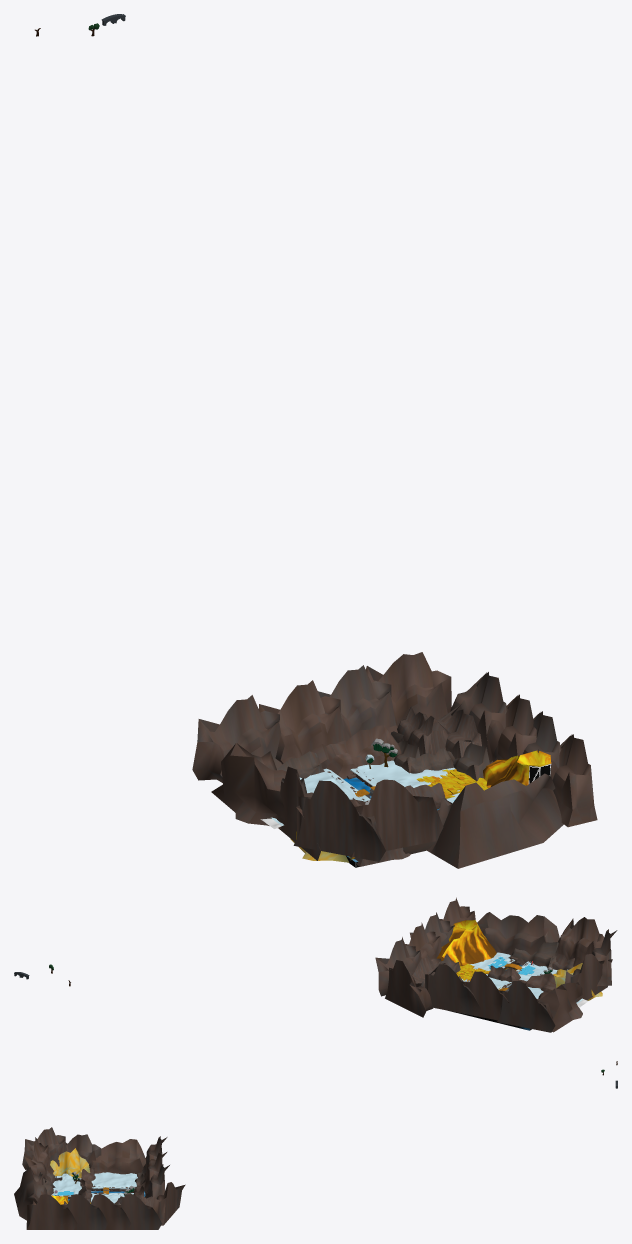
Rendered from Level1(3).FBX.
3 renders of one model, top to bottom at view 1: azimuth 30°, elevation 25°; view 2: azimuth 150°, elevation 25°; view 3: azimuth 270°, elevation 25°, orthographic. The views are drawn at different scales.
Parts seen in each view (by area): view 1: MountainR007, MountainTR012, MountainTR009, MountainTR008, MountainR005, MountainTR010, MountainTR011, MountainTR007, MountainTR004, MountainTR005, MountainTL001, MountainTR006 (+5 smaller); view 2: MountainR007, MountainTR009, MountainTR007, Volcano001, MountainTR010, MountainTR011, MountainR005, MountainTR008, MountainTR006, MountainTR013, MountainTR005, MountainL005 (+9 smaller); view 3: MountainR005, MountainTR004, MountainTR003, MountainTR006, MountainR007, MountainTR012, MountainTR005, MountainTR011, Sphere002, MountainTR010, MountainTR013, Plane001 (+4 smaller).
Part boxes in pixels (left/top/right/bottom): MountainR007: left=427, top=773, right=563, bottom=868; MountainTR012: left=293, top=780, right=385, bottom=861; MountainTR009: left=192, top=695, right=282, bottom=782; MountainTR008: left=259, top=680, right=346, bottom=764; MountainR005: left=211, top=743, right=286, bottom=828; MountainTR010: left=350, top=779, right=443, bottom=857; MountainTR011: left=365, top=652, right=451, bottom=726; MountainTR007: left=318, top=665, right=397, bottom=741; MountainTR004: left=550, top=734, right=597, bottom=827; MountainTR005: left=486, top=694, right=536, bottom=763; MountainTL001: left=321, top=725, right=401, bottom=779; MountainTR006: left=450, top=672, right=506, bottom=749; MountainR007: left=477, top=912, right=559, bottom=960; MountainTR009: left=497, top=981, right=555, bottom=1032; MountainTR007: left=425, top=964, right=480, bottom=1016; Volcano001: left=436, top=920, right=496, bottom=966; MountainTR010: left=555, top=917, right=604, bottom=966; MountainTR011: left=385, top=960, right=433, bottom=1017; MountainR005: left=537, top=982, right=582, bottom=1032; MountainTR008: left=461, top=971, right=509, bottom=1020; MountainTR006: left=375, top=937, right=421, bottom=996; MountainTR013: left=565, top=953, right=612, bottom=1002; MountainTR005: left=405, top=922, right=441, bottom=959; MountainL005: left=508, top=942, right=558, bottom=969; MountainR005: left=89, top=1139, right=145, bottom=1175; MountainTR004: left=26, top=1194, right=77, bottom=1229; MountainTR003: left=60, top=1194, right=108, bottom=1229; MountainTR006: left=114, top=1194, right=162, bottom=1229; MountainR007: left=14, top=1167, right=47, bottom=1220; MountainTR012: left=22, top=1127, right=66, bottom=1169; MountainTR005: left=90, top=1194, right=131, bottom=1229; MountainTR011: left=153, top=1182, right=185, bottom=1225; Sphere002: left=50, top=1148, right=90, bottom=1177; MountainTR010: left=24, top=1137, right=54, bottom=1181; MountainTR013: left=60, top=1134, right=101, bottom=1173; Plane001: left=91, top=1172, right=137, bottom=1190.
Bounding box in the file's own units: 1158 × 1025 × 3102.
